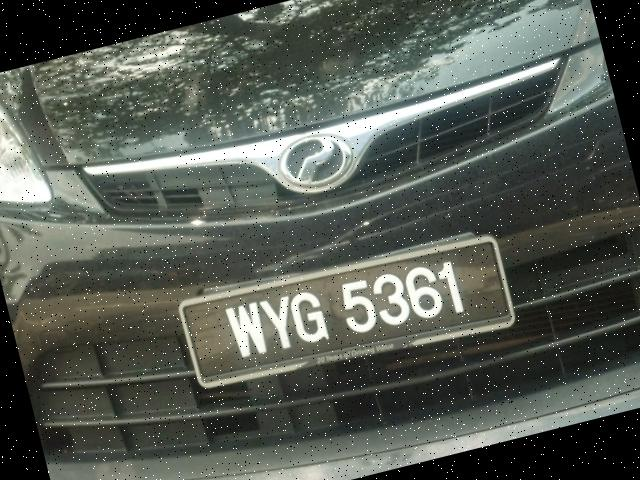License_Plate: (187, 235, 502, 397)
